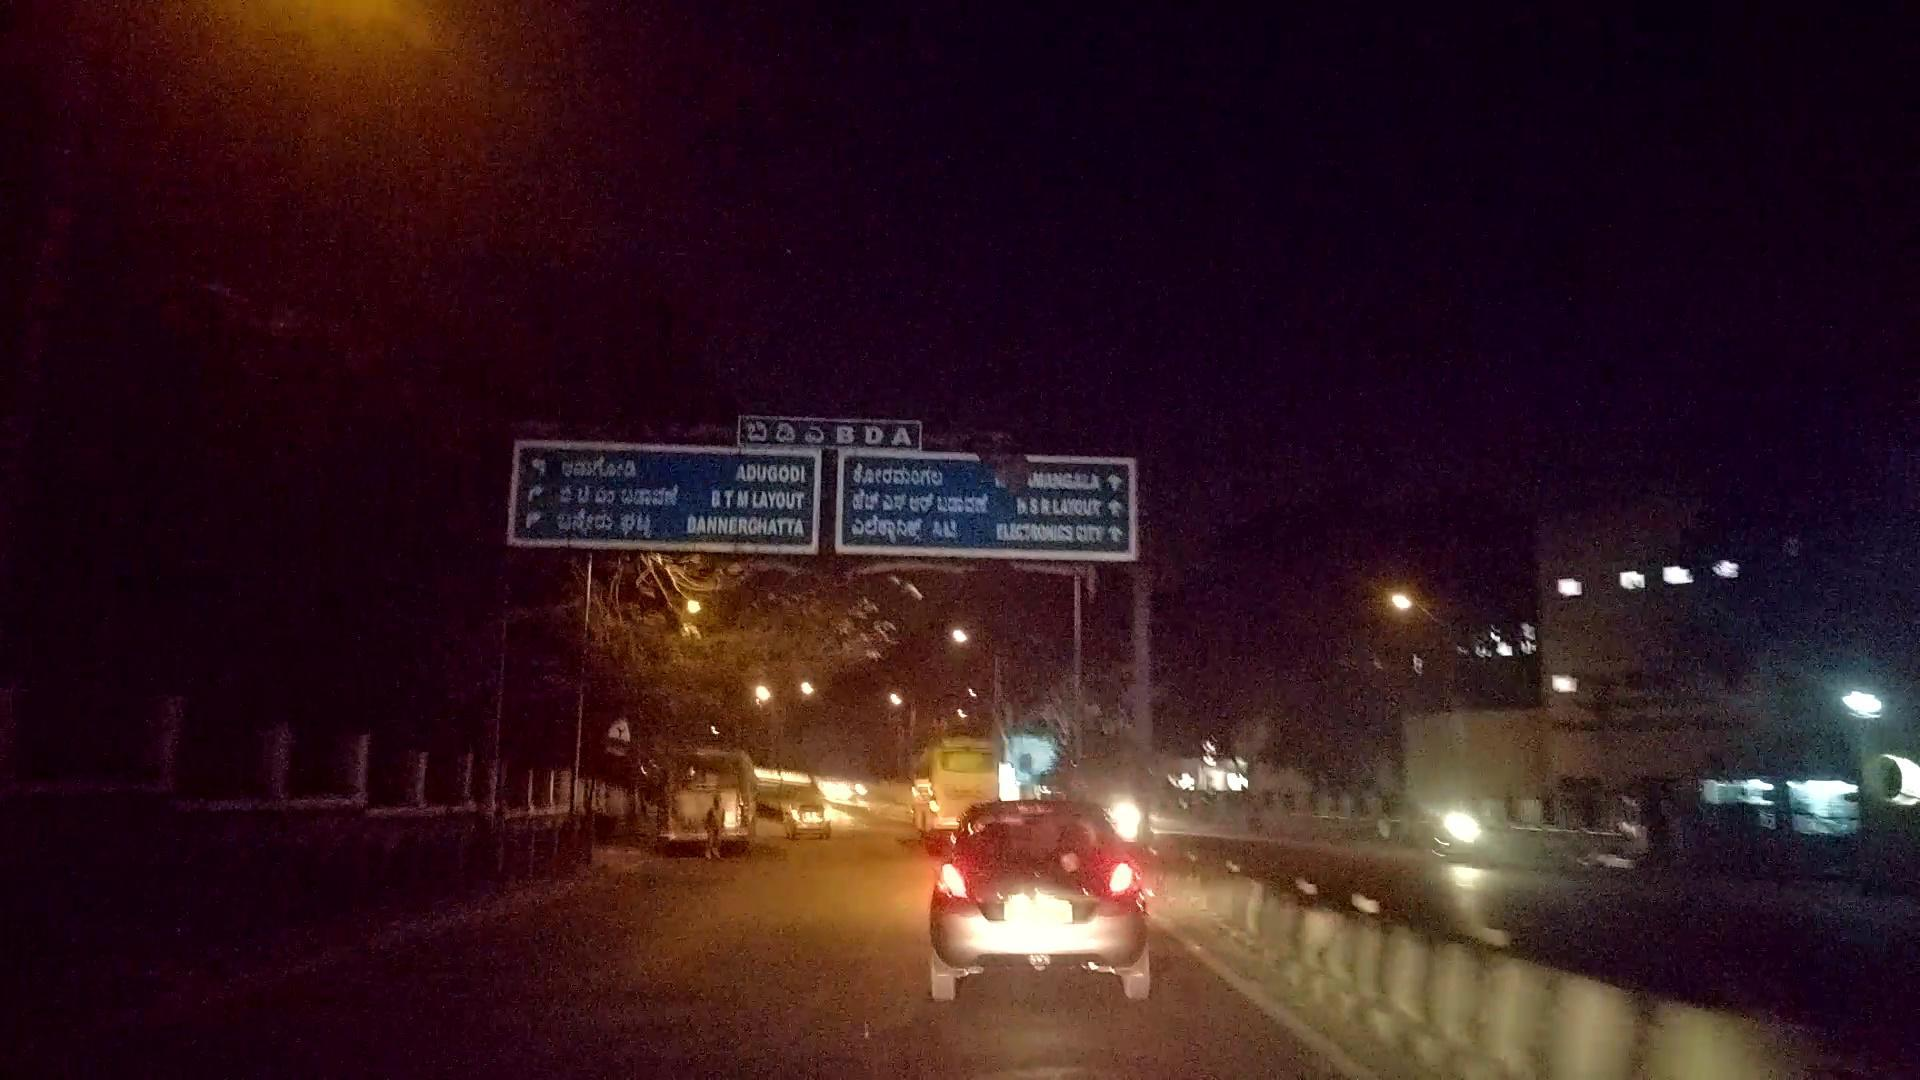on: (220, 0, 551, 203)
